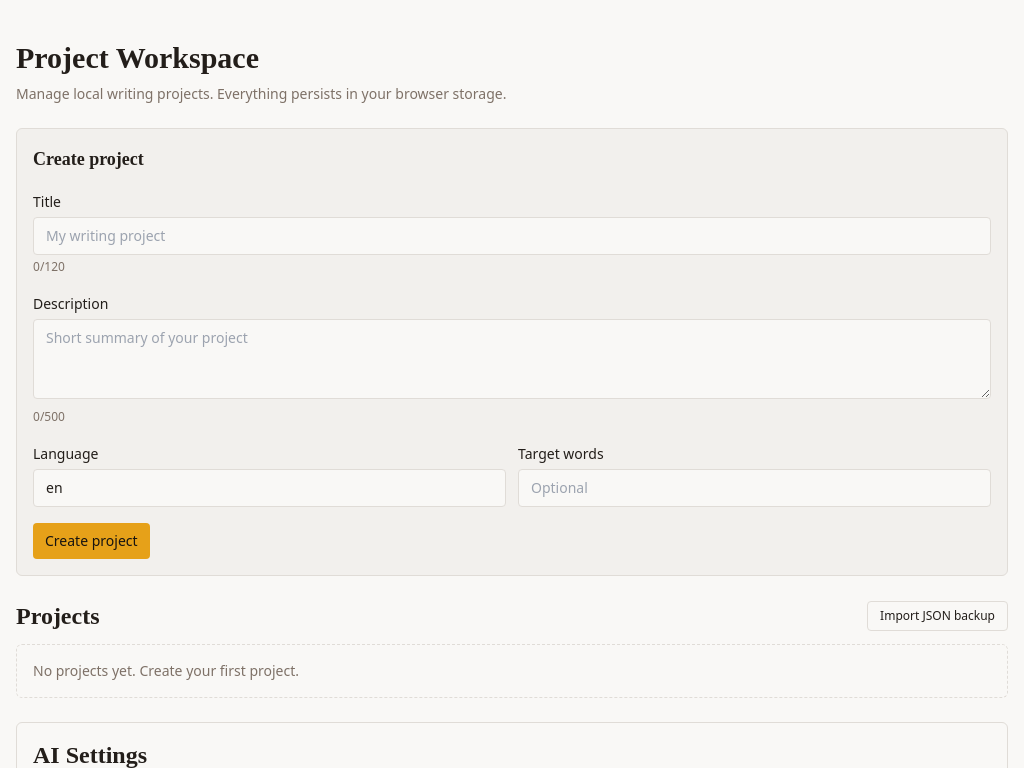
WorkspacePage › deletes a project from the list
This screenshot has width=1024, height=768.
Expected: the text "No projects yet. Create your first project." is shown, [16, 644, 1008, 698]
Type "Delete target" into the field labelled "Title".
click(512, 236); type("Delete target")  # box [33, 217, 991, 255]
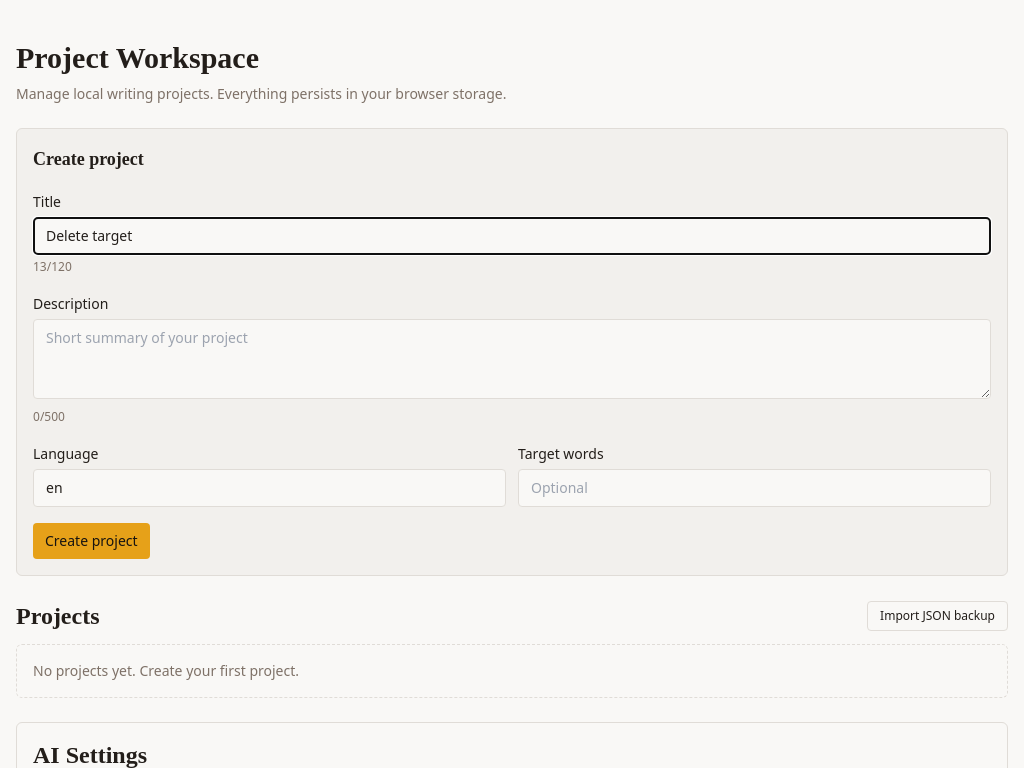
Click the button "Create project".
click(91, 541)  # box [33, 523, 150, 559]
(page scrolled)
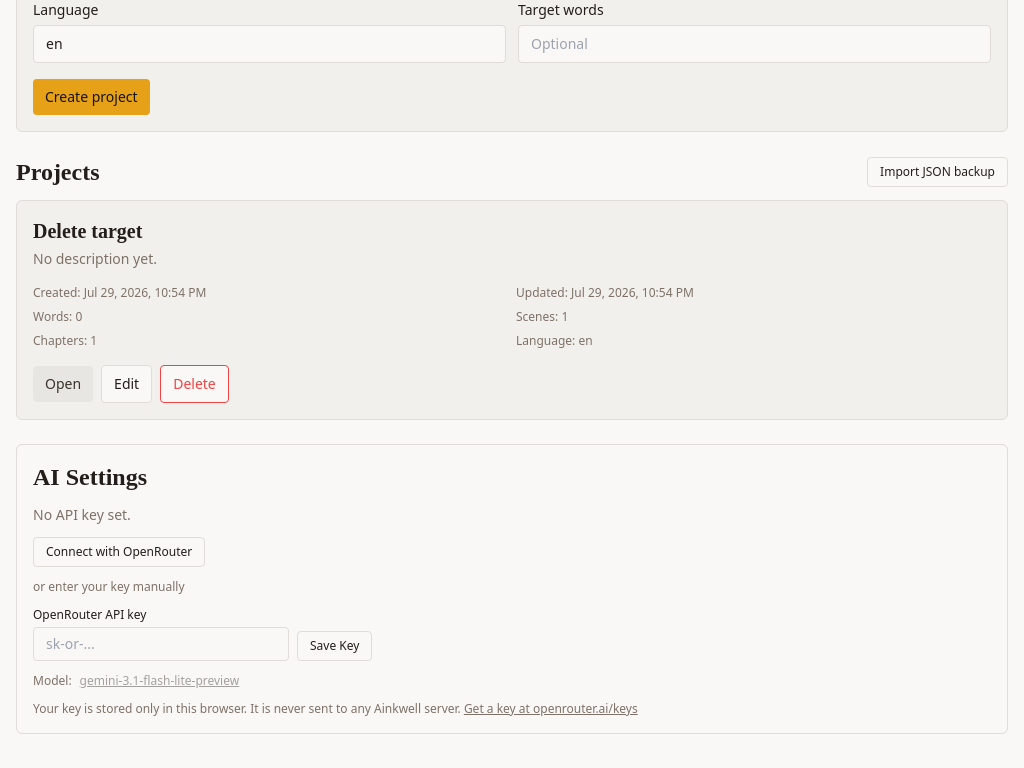
Expected: the text "Delete target" is shown, [33, 220, 142, 242]
Click the button "Delete".
click(194, 384)  # box [160, 365, 229, 403]
(page scrolled)
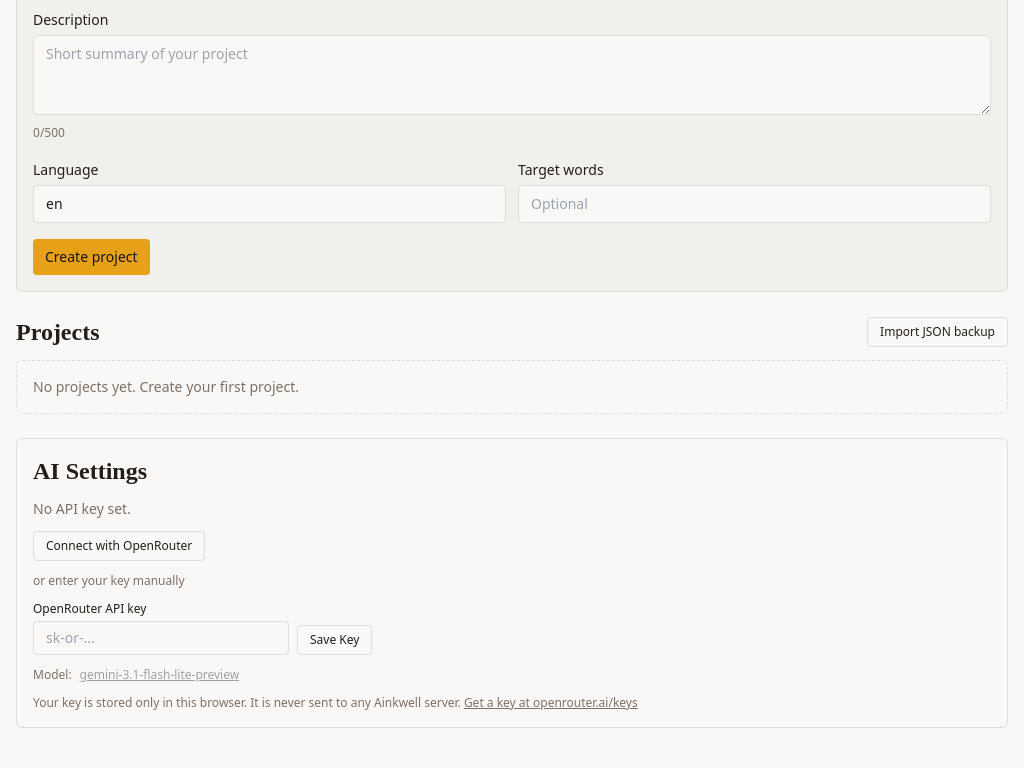
Expected: the heading "Delete target" is gone
